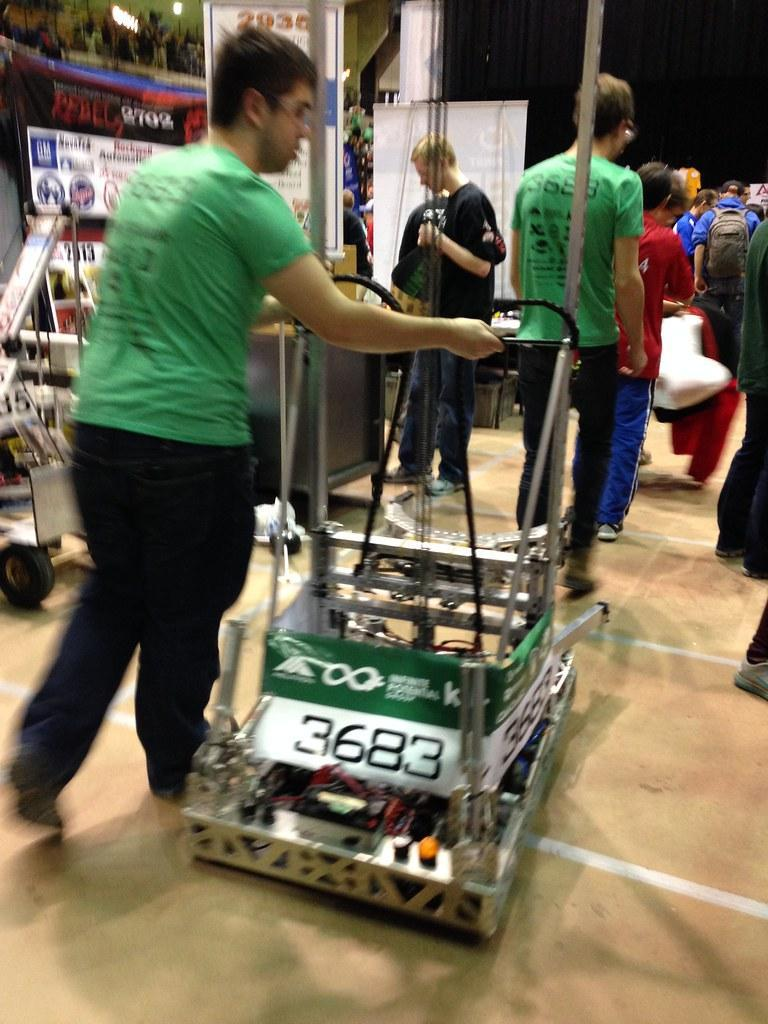robot: (174, 0, 606, 948)
